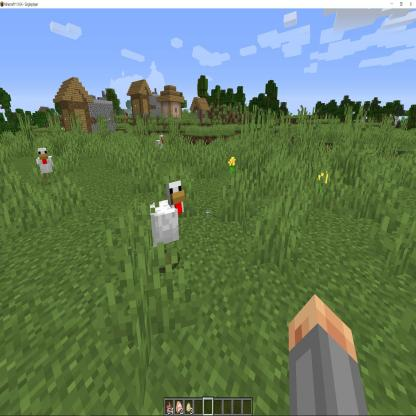minecraft-pigs: (145, 177, 189, 270), (34, 146, 58, 189), (154, 132, 165, 156)
